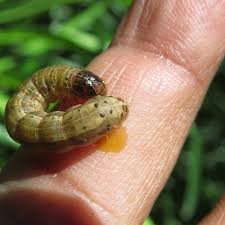Armyworm: (3, 61, 128, 148)
